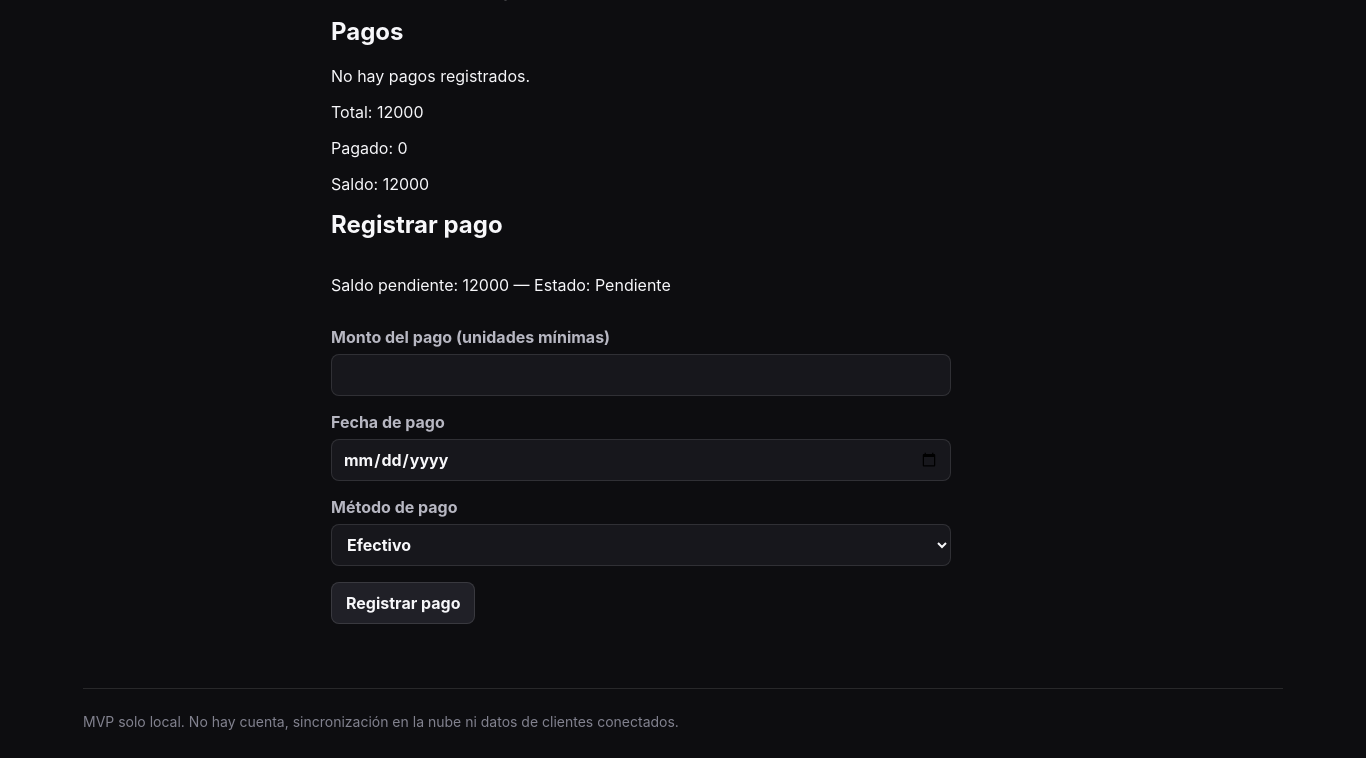
Test: AppRouter › persists payment registration and voiding through the real provider and refreshes invoice detail balances
(page scrolled)
Type "4000" into the field labelled "Monto del pago (unidades mínimas)" at (641, 375), box [331, 354, 951, 396]
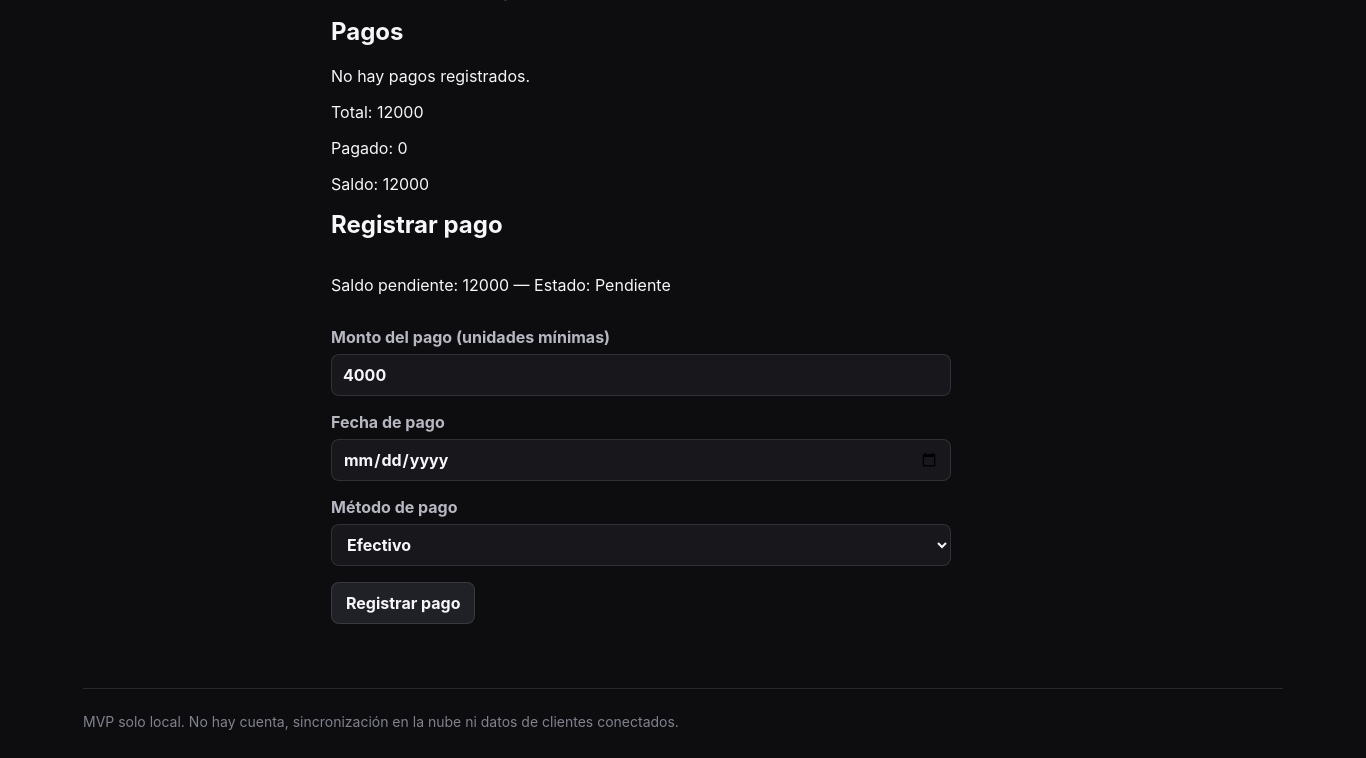
Type "2026-08-10" into the date field labelled "Fecha de pago" at (641, 460), box [331, 439, 951, 481]
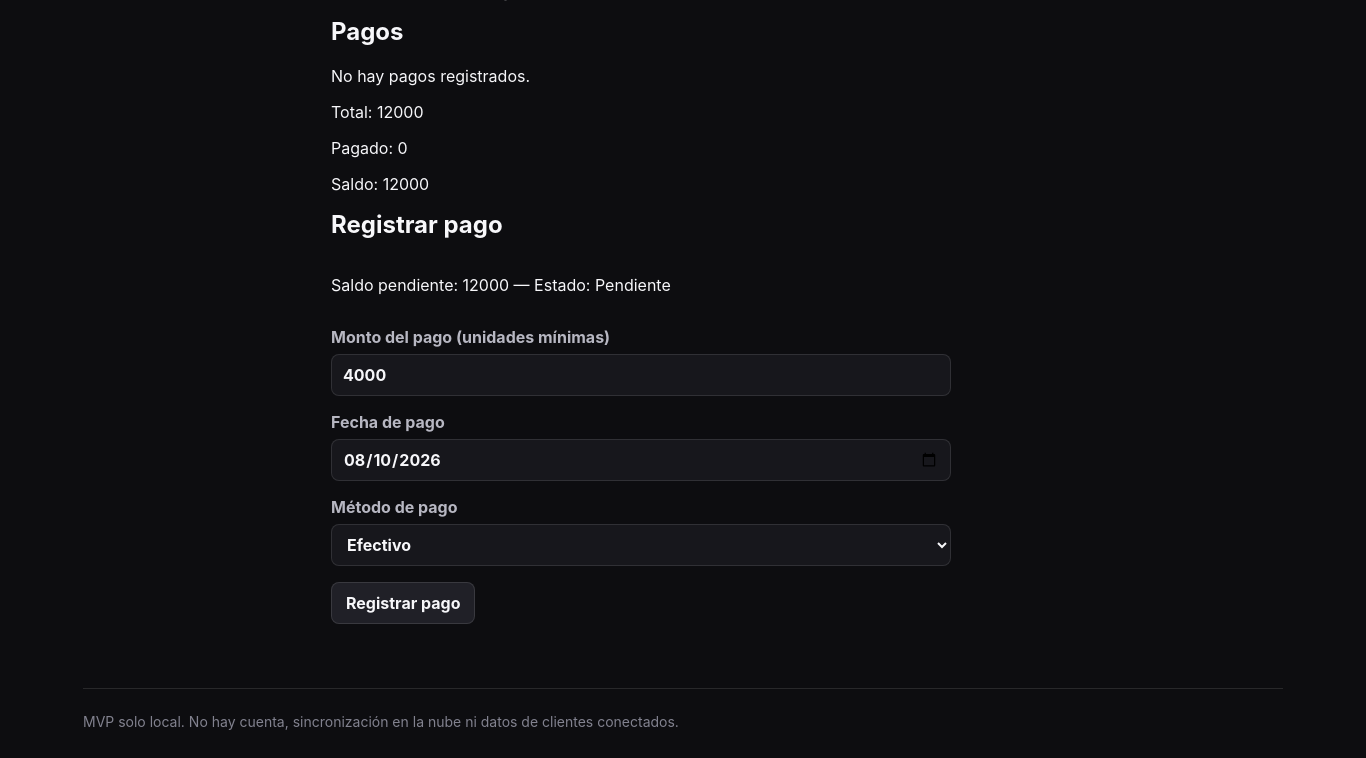
Click the button "Registrar pago" at (403, 603), box [331, 582, 476, 624]
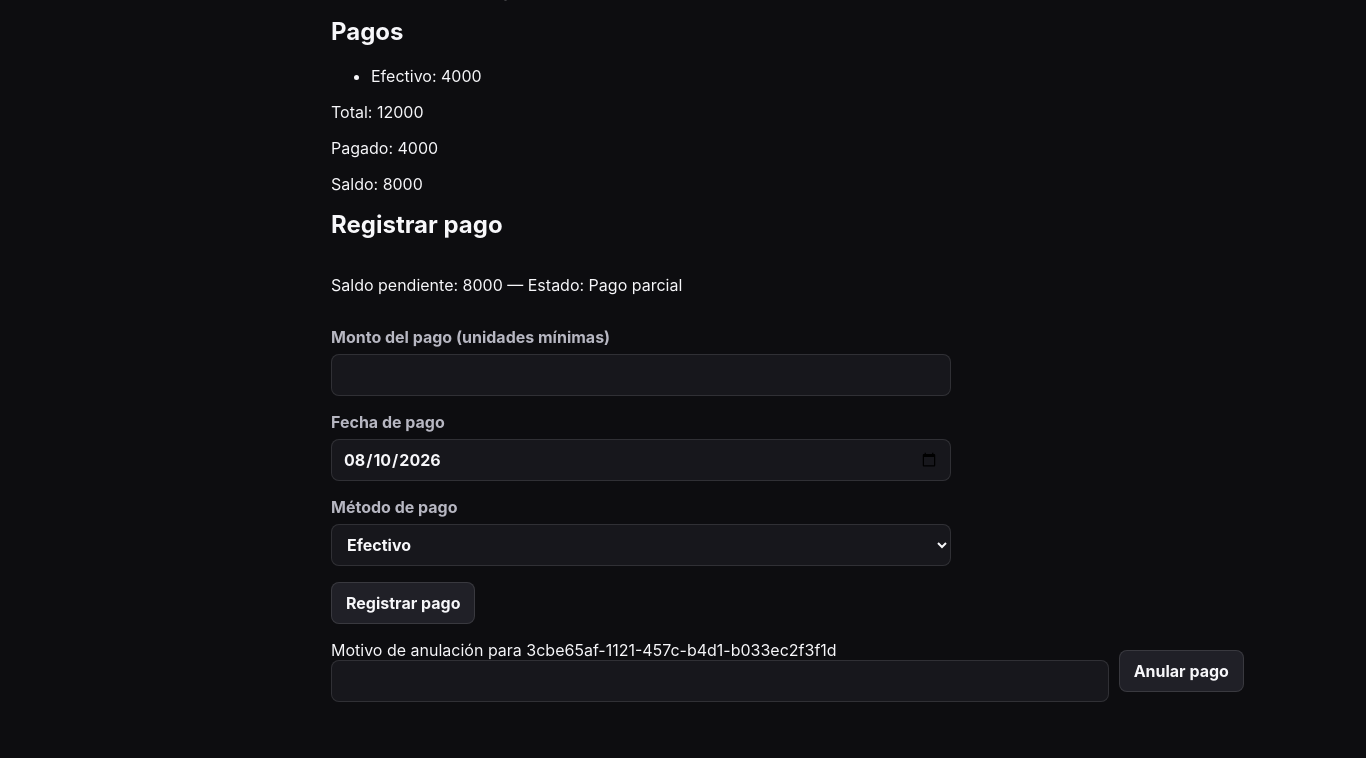
Check: the text "Saldo: 8000" is shown, box [331, 174, 423, 194]
Type "Recorded twice" into the 2nd field at (720, 681), box [331, 660, 1109, 702]
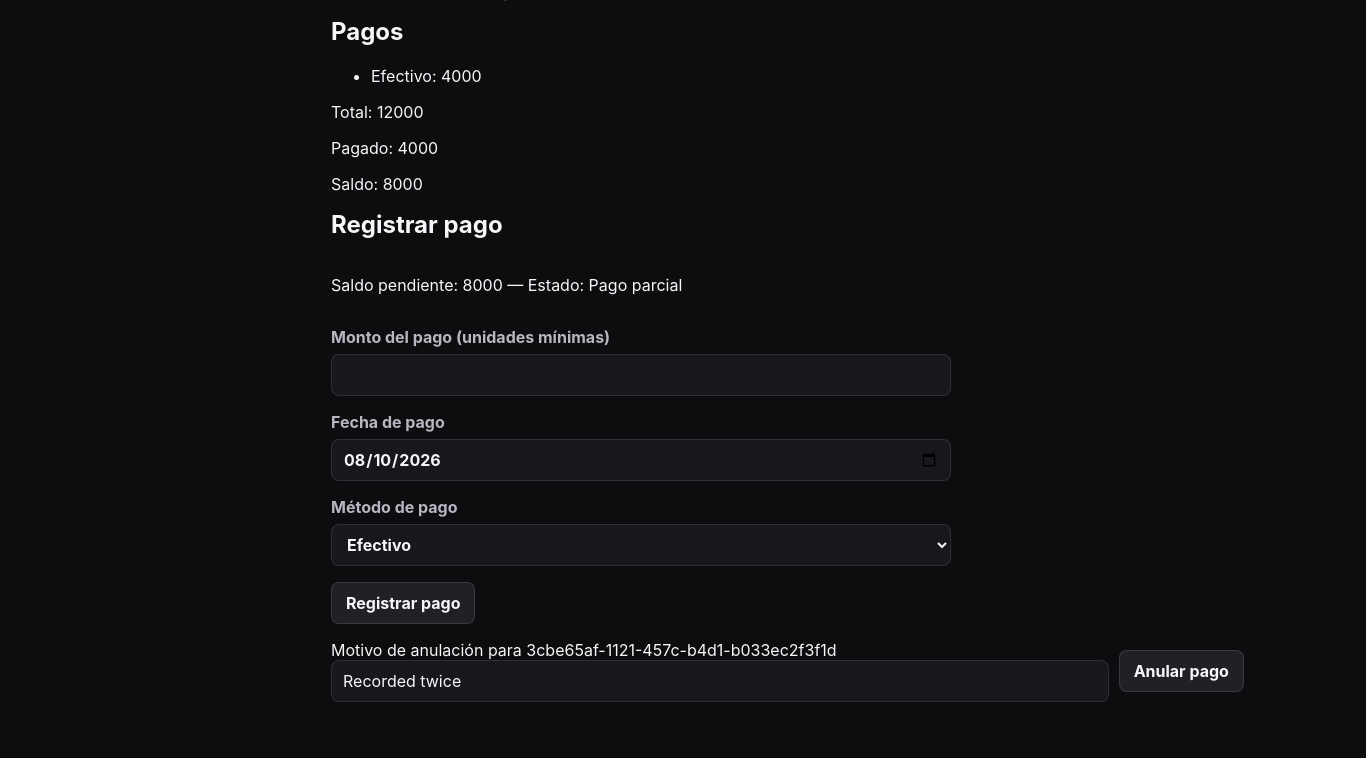
Click the button "Anular pago" at (1181, 671), box [1119, 650, 1244, 692]
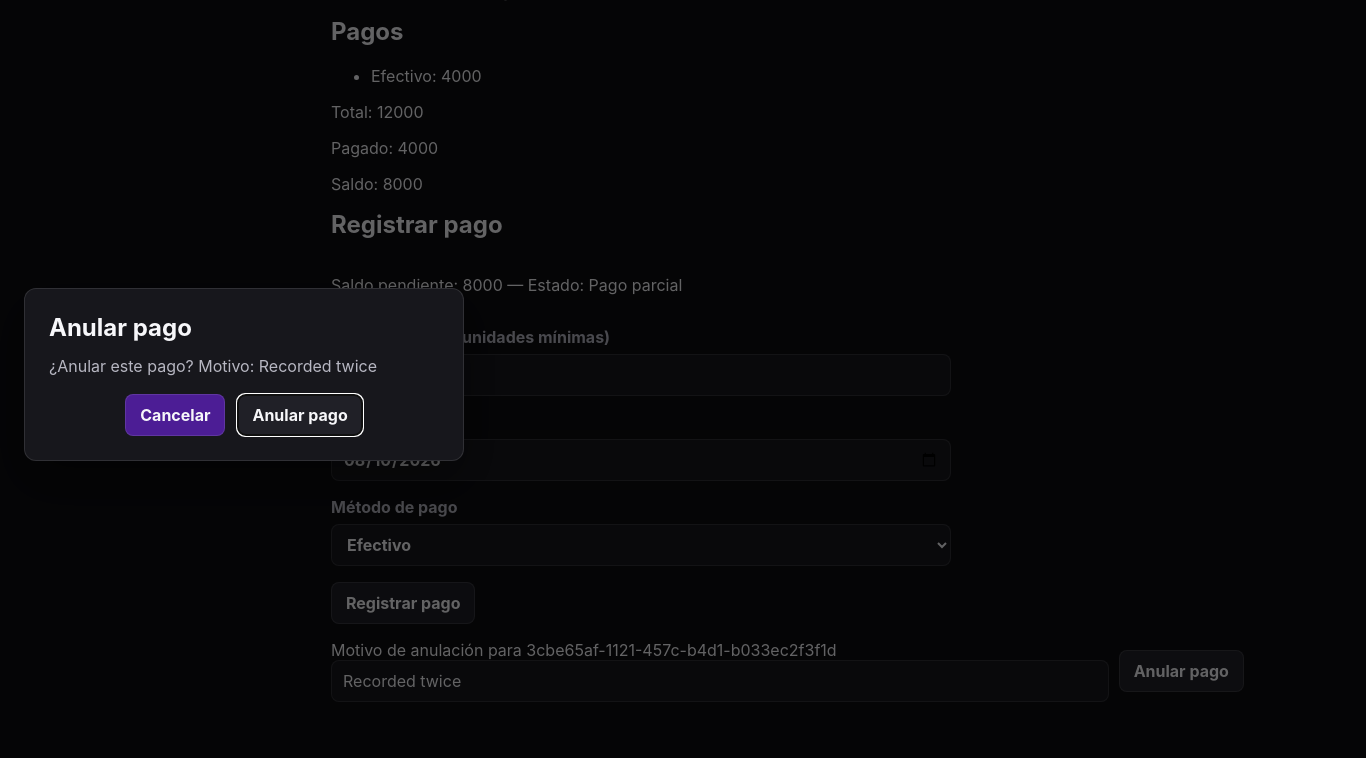
Click the button "Anular pago" at (300, 414), box [238, 394, 363, 436]
(page scrolled)
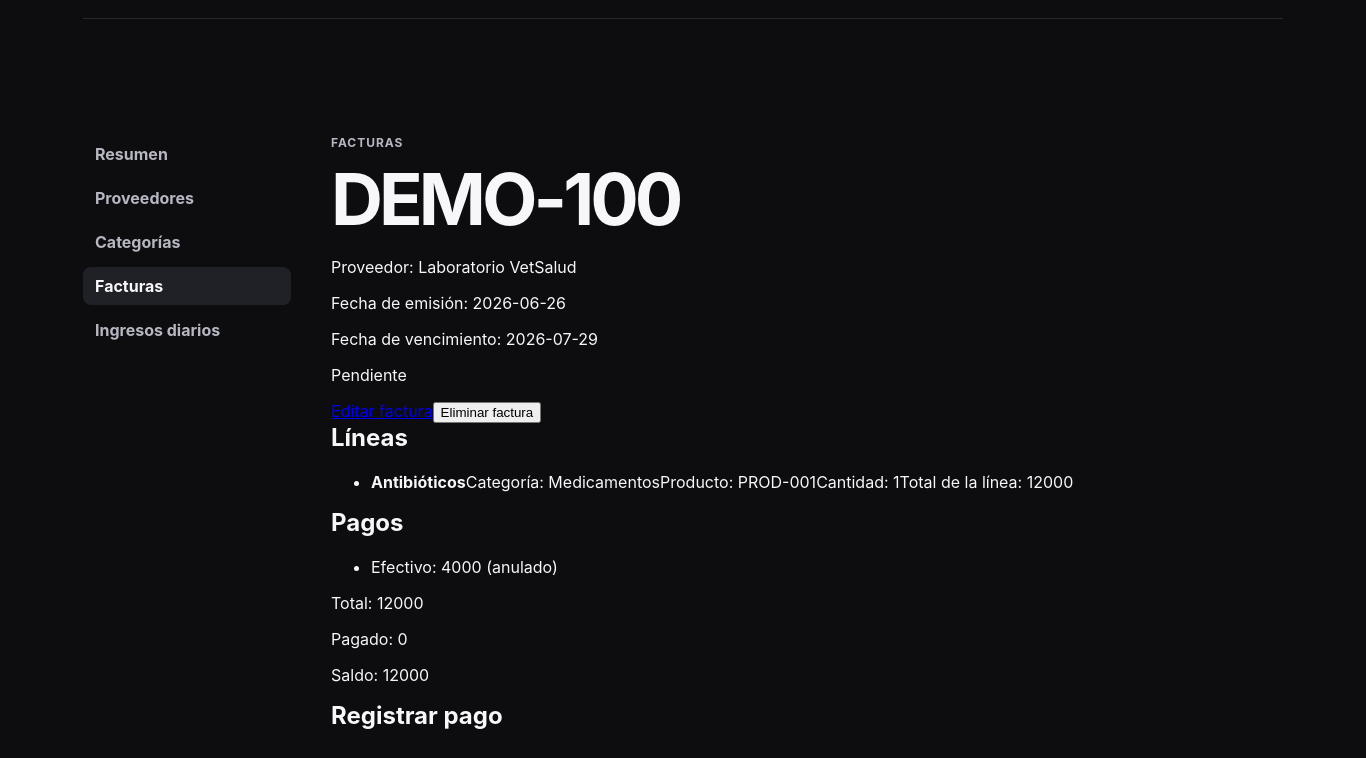
Check: the text "Saldo: 12000" is shown, box [331, 665, 429, 685]
Check: the text named "Estado: Pendiente" reads "Pendiente", box [331, 365, 407, 385]
